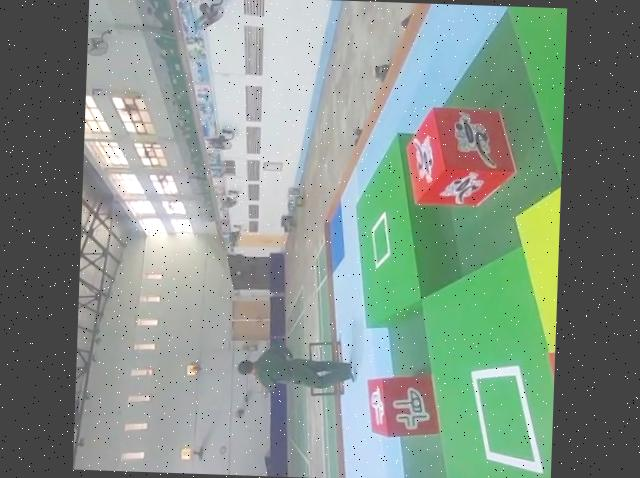R1: (401, 102, 522, 213)
R2 Real: (362, 370, 443, 443)
